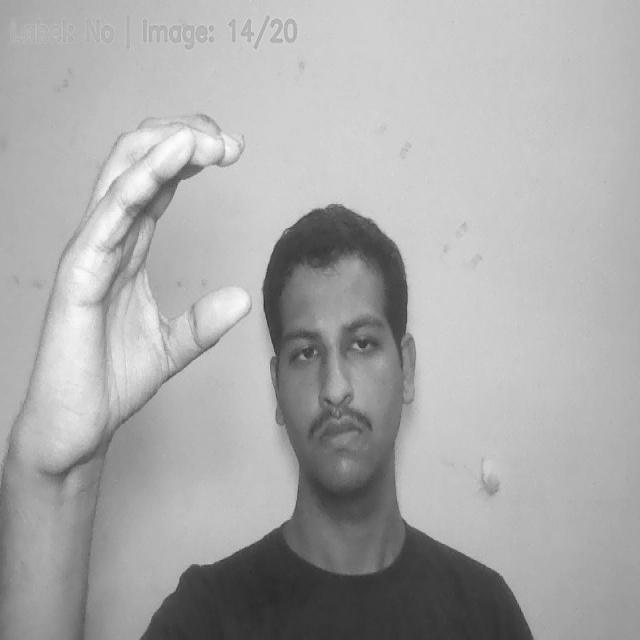No: (15, 101, 256, 532)
